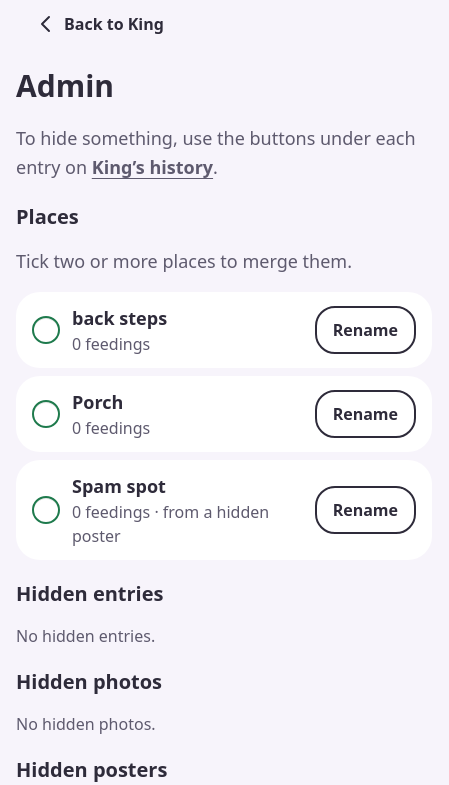
Test: AdminPage — renaming a place › renames a hidden poster’s place, which stays marked
Click the button with aria-label "Rename Spam spot". click: [365, 510]
box: [315,486,416,534]
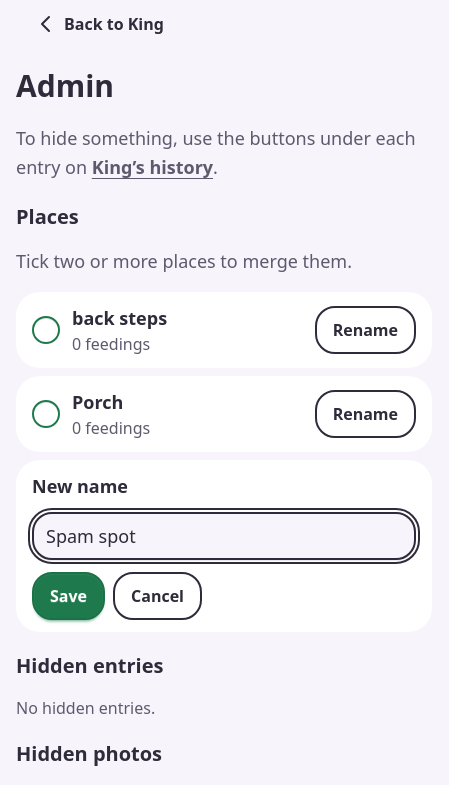
Replace the text in the field labelled "New name" with "Old porch". click: [224, 536]
box: [32,512,416,560]
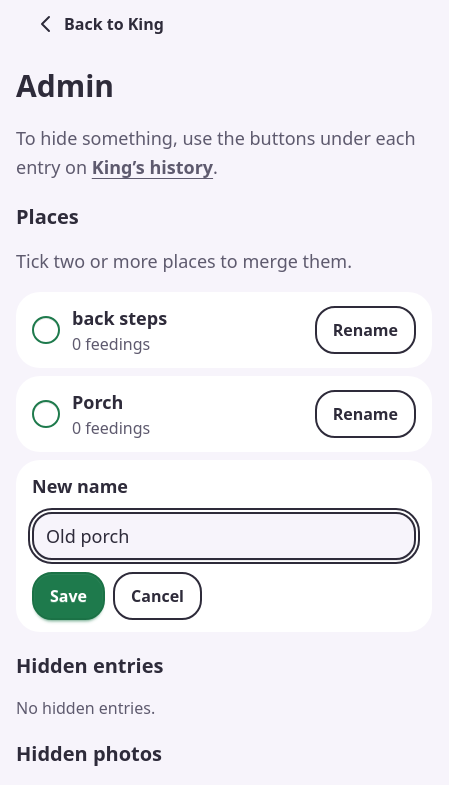
Click the button "Save". click: [68, 596]
box: [32,572,105,620]
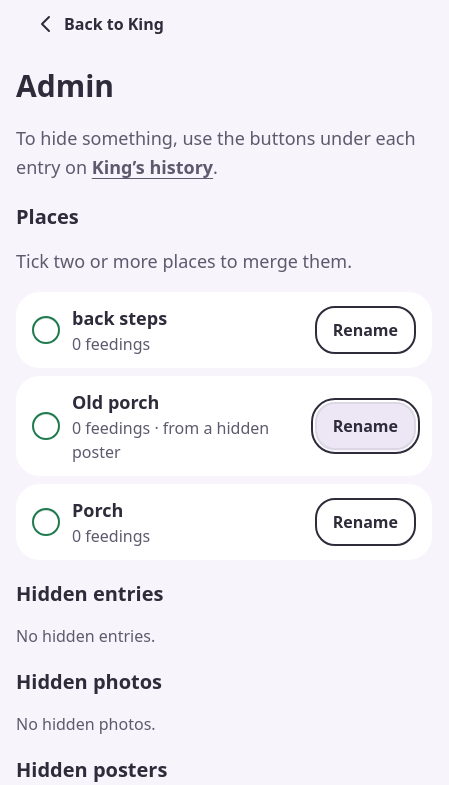
Expected: the list item "Rename Old porch" shows "from a hidden poster", [72,417,269,463]
